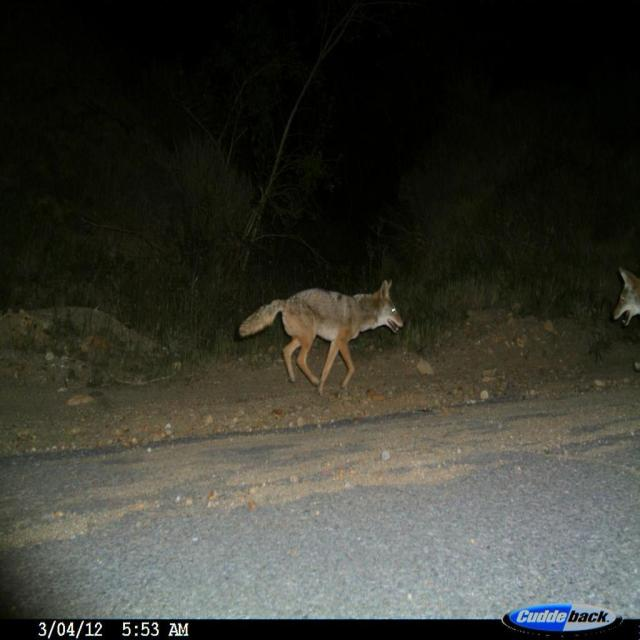coyote: (235, 270, 413, 405), (610, 261, 640, 332)
